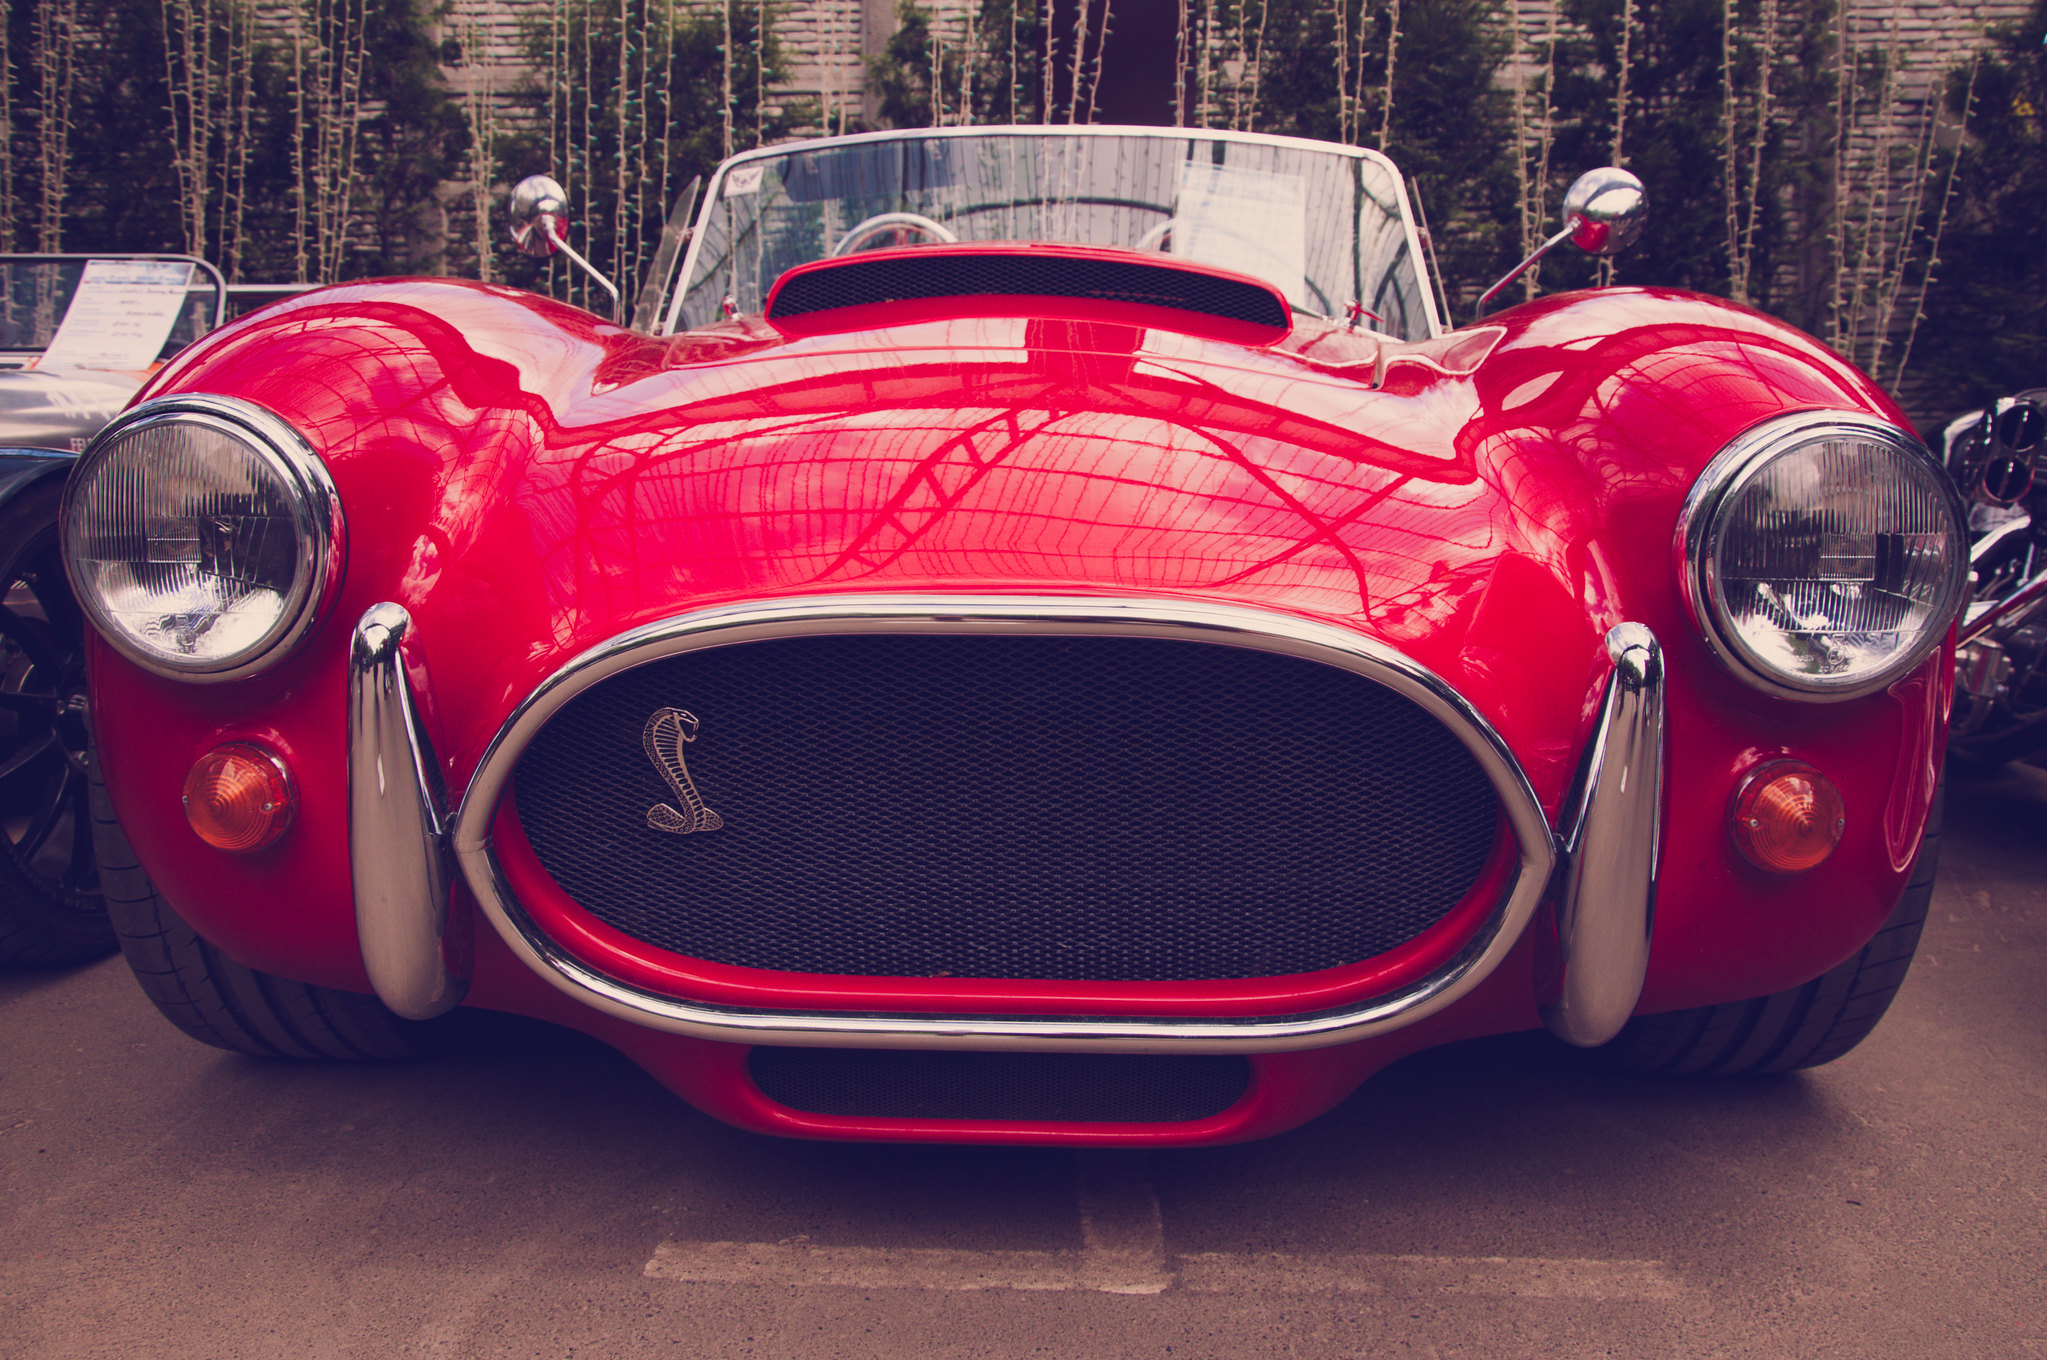car: (74, 52, 1979, 1170)
